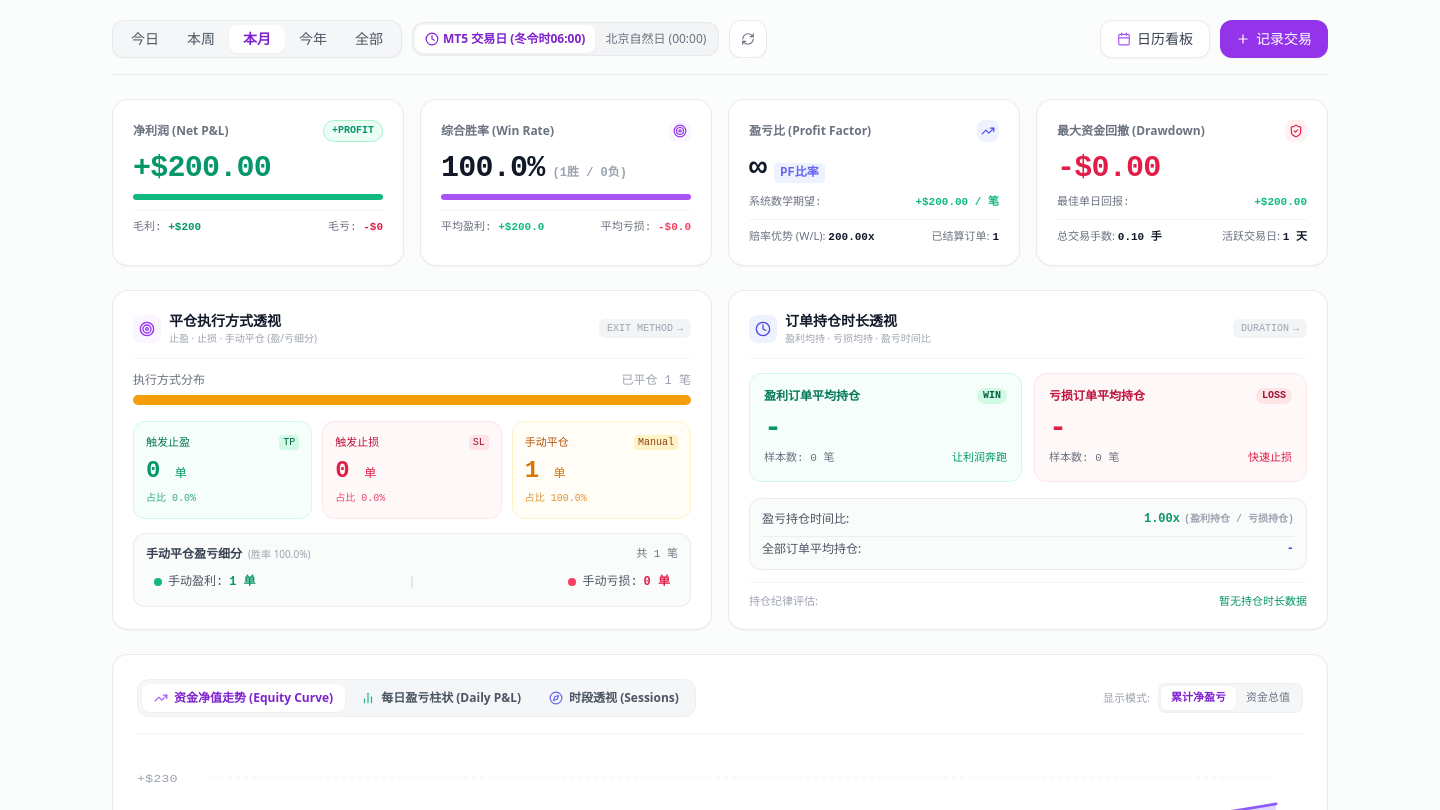
DashboardPage (TradeZella & TradeSync Style) › allows switching chart tabs between Equity Curve, Daily P&L and Sessions
The width and height of the screenshot is (1440, 810).
Expected: the text "净利润 (Net P&L)" is shown, top-left (133, 123), bottom-right (229, 139)
// Switch to Daily P&L tab
What coordinates should you click on to do the following:
click the button "每日盈亏柱状 (Daily P&L)"
I would click on:
 (441, 698)
Its box is top-left (349, 684), bottom-right (533, 712).
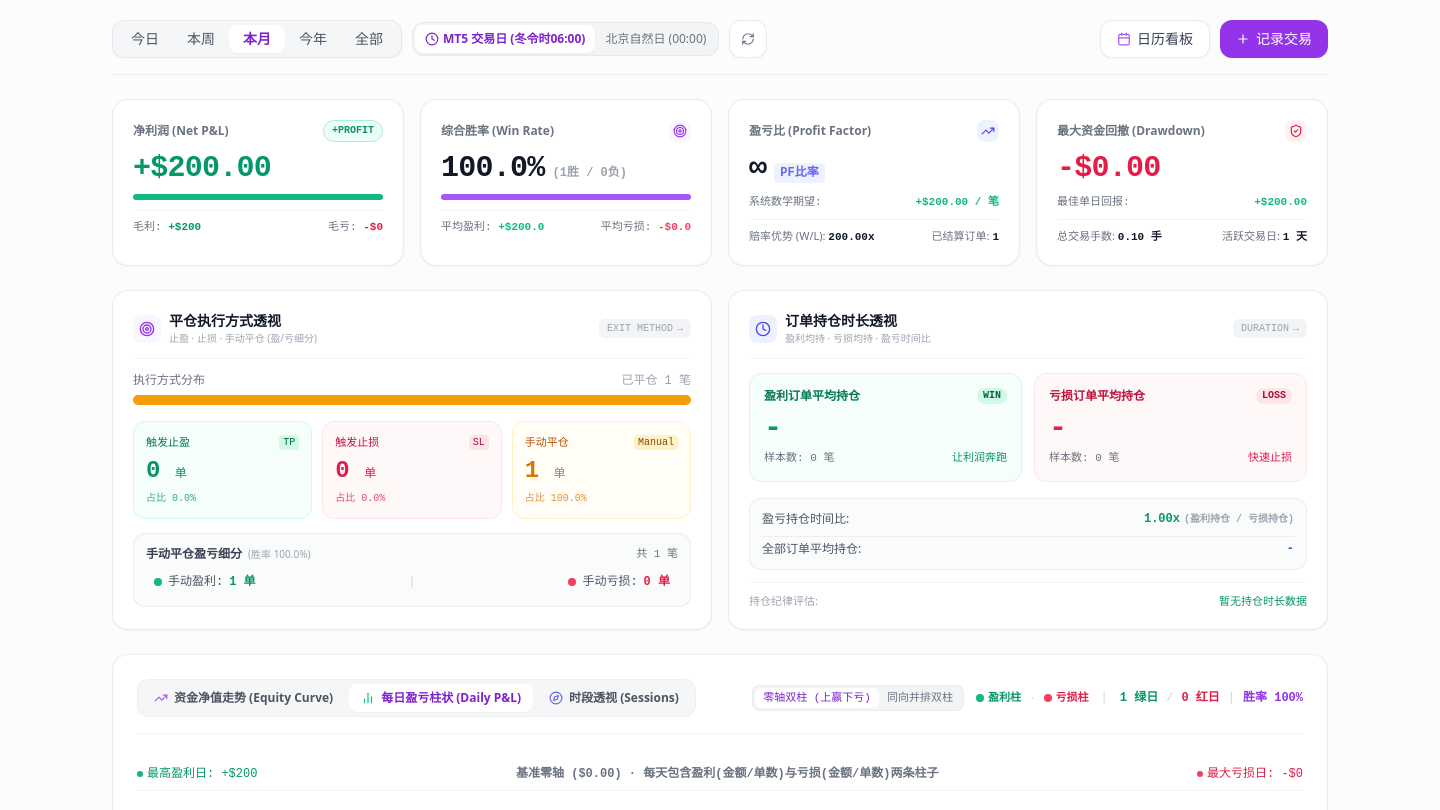
Expected: the text "综合胜率 (Win Rate)" is shown, top-left (441, 123), bottom-right (554, 139)
Expected: the text "基准零轴 ($0.00) · 每天包含盈利(金额/单数)与亏损(金额/单数)两条柱子" is shown, top-left (516, 766), bottom-right (938, 782)
// Switch to Sessions tab
What coordinates should you click on to do the following:
click the button "时段透视 (Sessions)"
I would click on:
 (614, 698)
Its box is top-left (537, 684), bottom-right (691, 712).
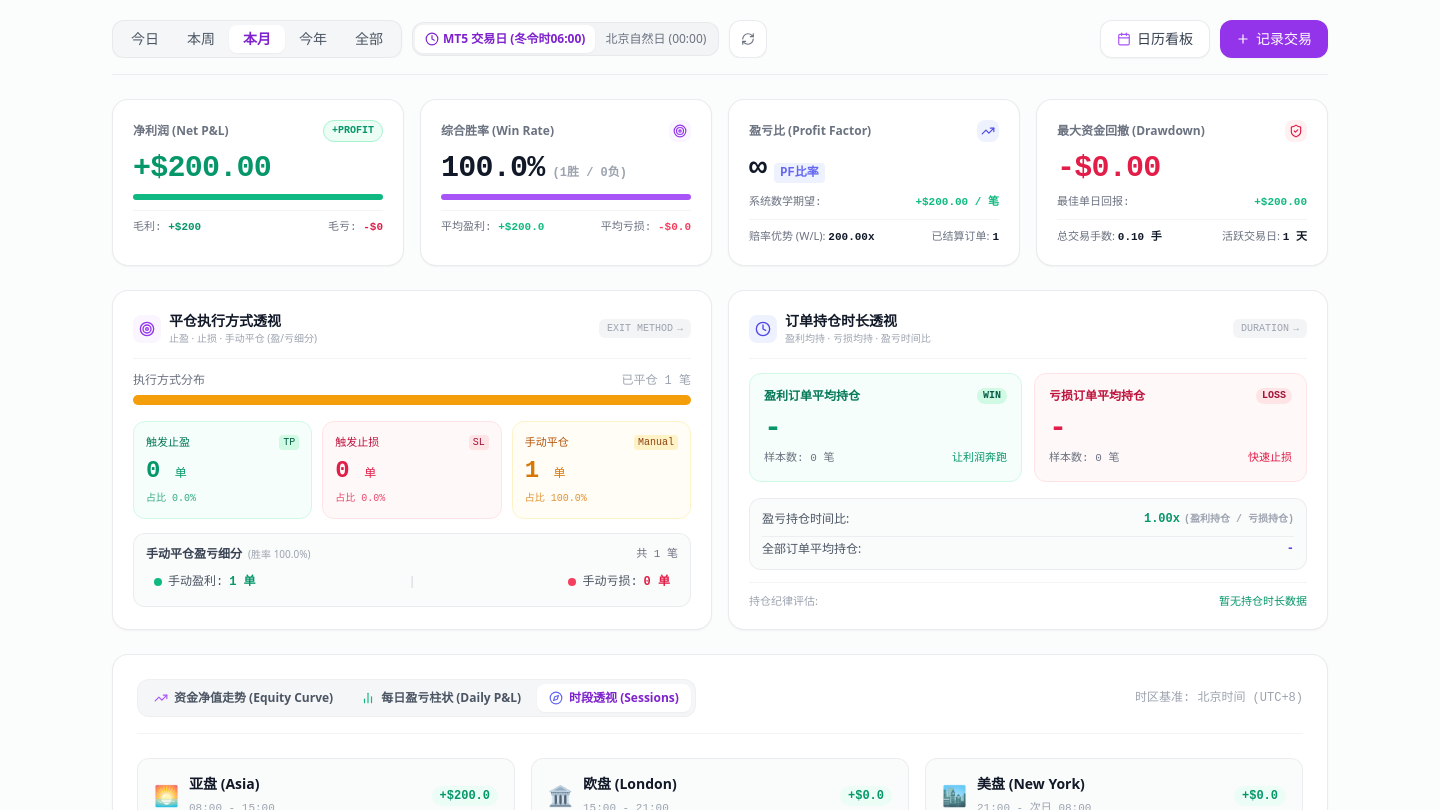
Expected: the heading "亚盘 (Asia)" is shown, top-left (189, 774), bottom-right (260, 793)
Expected: the heading "欧盘 (London)" is shown, top-left (583, 775), bottom-right (677, 792)
Expected: the heading "美盘 (New York)" is shown, top-left (977, 775), bottom-right (1091, 792)
